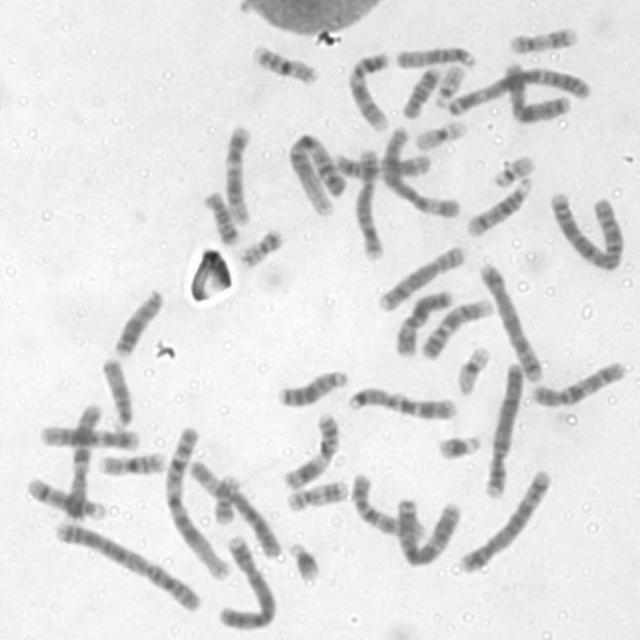A1: (161, 423, 232, 583), (284, 129, 345, 217)
A2: (50, 519, 204, 615), (546, 187, 626, 272)
A3: (447, 64, 592, 118), (392, 492, 463, 568)
B4: (481, 357, 526, 500), (217, 532, 277, 632)
B5: (454, 464, 555, 576), (474, 258, 544, 383)
C10: (348, 468, 428, 542), (528, 358, 628, 410)
C11: (278, 408, 341, 492), (328, 148, 434, 180)
C12: (221, 122, 254, 226), (36, 421, 142, 452)
C6: (185, 458, 281, 559), (378, 124, 463, 220)
C7: (61, 399, 106, 523), (345, 383, 459, 422)
C8: (375, 242, 466, 313), (352, 143, 386, 262)
C9: (418, 296, 494, 361), (344, 48, 392, 133)
D13: (110, 284, 166, 360), (274, 366, 350, 409)
D14: (463, 173, 534, 239), (22, 472, 108, 522)
D15: (98, 355, 136, 430), (392, 44, 478, 70)
E16: (248, 40, 320, 88), (95, 448, 168, 478)
E17: (282, 476, 350, 513), (504, 23, 580, 55)
E18: (398, 61, 443, 120), (200, 189, 240, 246)
F19: (411, 115, 469, 153), (453, 343, 492, 397)
F20: (235, 226, 285, 269), (210, 472, 240, 526)
G21: (282, 537, 322, 585), (433, 430, 483, 461)
G22: (430, 62, 466, 110), (490, 152, 535, 189)
X: (502, 58, 574, 124), (392, 287, 453, 359)
